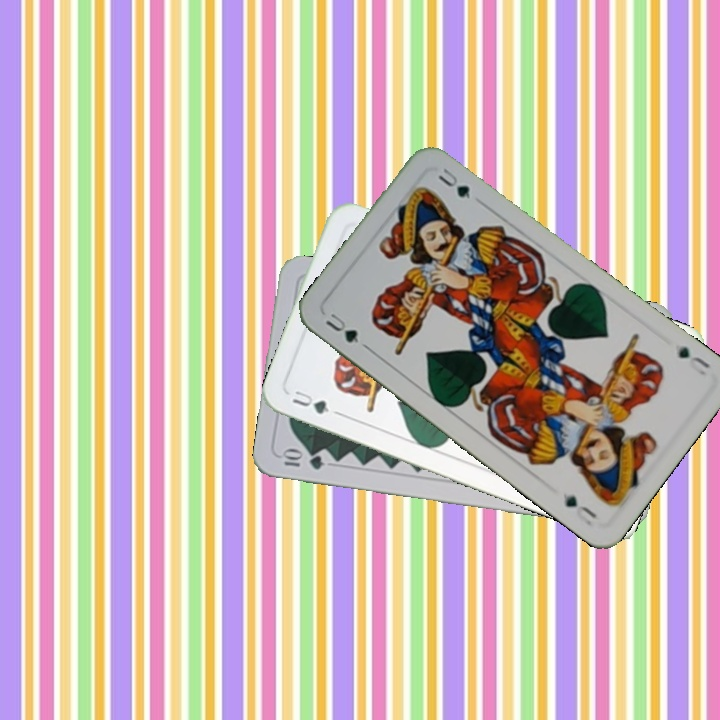G10: (277, 447, 326, 472)
GU: (321, 309, 363, 346), (674, 341, 713, 378), (288, 386, 332, 417)
